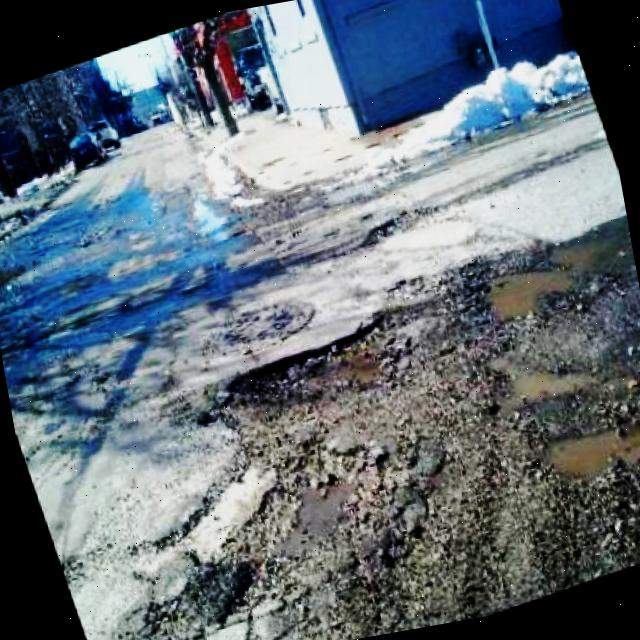pothole: (200, 448, 450, 614), (210, 294, 408, 418), (447, 223, 640, 338), (462, 323, 630, 421), (516, 409, 640, 506)
